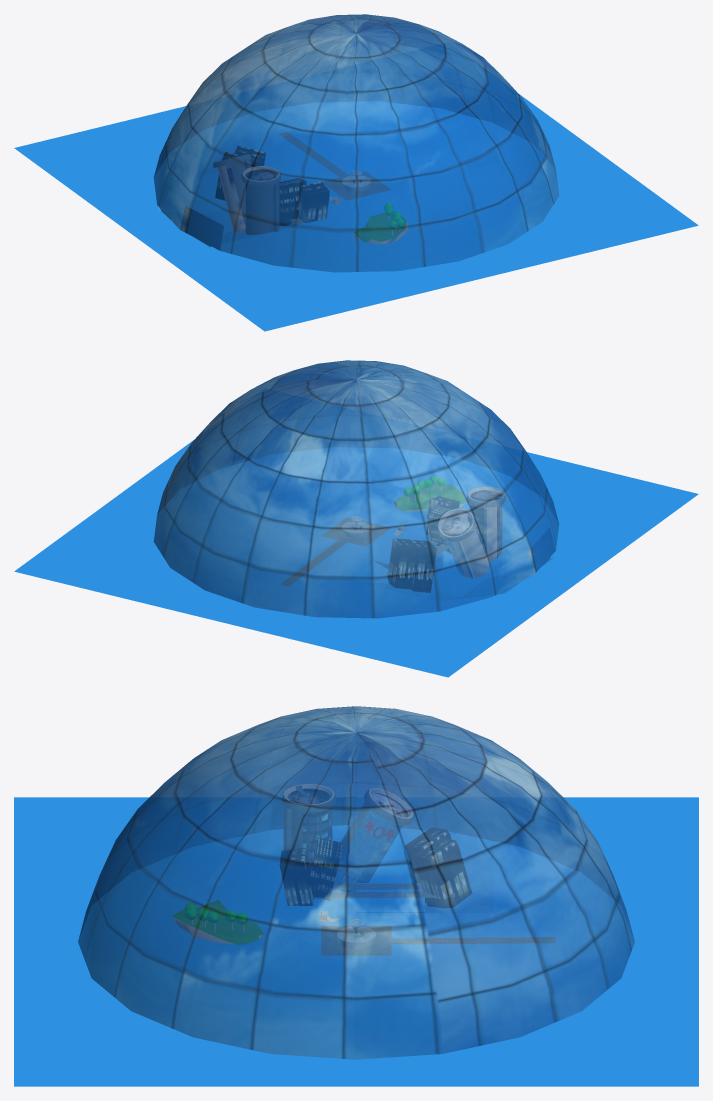
Rendered from water.fbx.
3 views of the same model, one above another, from view 1: azimuth 30°, elevation 25°; view 2: azimuth 150°, elevation 25°; view 3: azimuth 270°, elevation 25° (orthographic). The views are drawn at different scales.
Parts seen in each view (by area): view 1: pPlane2, polySurface2, pCylinder31, pCylinder30, pCube8, pPlatonic2, pCube9, pPlane1, pPlane6; view 2: pPlane2, polySurface2, pCylinder30, pCylinder31, pCube10, pCube11, pPlatonic2, pPlane1, pPlane6; view 3: pPlane2, polySurface2, pCylinder30, pCylinder31, pCube10, pPlatonic2, pCube8, pCube9, pPlane1, pPlane6, pCube11, pCylinder1 (+1 smaller).
Part boxes in pixels (box(x1,y1,x2,y2)): pPlane2: box(14, 94, 698, 331); polySurface2: box(153, 14, 559, 272); pCylinder31: box(242, 166, 280, 234); pCylinder30: box(213, 154, 251, 232); pCube8: box(298, 182, 329, 222); pPlatonic2: box(354, 213, 407, 244); pCube9: box(279, 178, 306, 225); pPlane1: box(323, 171, 390, 200); pPlane6: box(279, 132, 347, 177); pPlane2: box(14, 440, 698, 677); polySurface2: box(153, 360, 559, 618); pCylinder30: box(438, 508, 489, 578); pCylinder31: box(467, 487, 505, 561); pCube10: box(388, 538, 416, 589); pCube11: box(411, 540, 436, 592); pPlatonic2: box(394, 484, 465, 511); pPlane1: box(322, 517, 390, 546); pPlane6: box(281, 540, 346, 585); pPlane2: box(14, 797, 698, 1086); polySurface2: box(78, 706, 634, 1059); pCylinder30: box(334, 788, 413, 891); pCylinder31: box(282, 784, 335, 867); pCube10: box(413, 838, 471, 908); pPlatonic2: box(172, 900, 263, 944); pCube8: box(280, 848, 313, 905); pCube9: box(310, 837, 341, 899); pPlane1: box(321, 926, 391, 955); pPlane6: box(390, 937, 555, 943); pCube11: box(405, 827, 450, 902); pCylinder1: box(337, 926, 375, 948).
Size of the model in its own units: 611 by 270 by 611.
19 materials, 9 textured.
